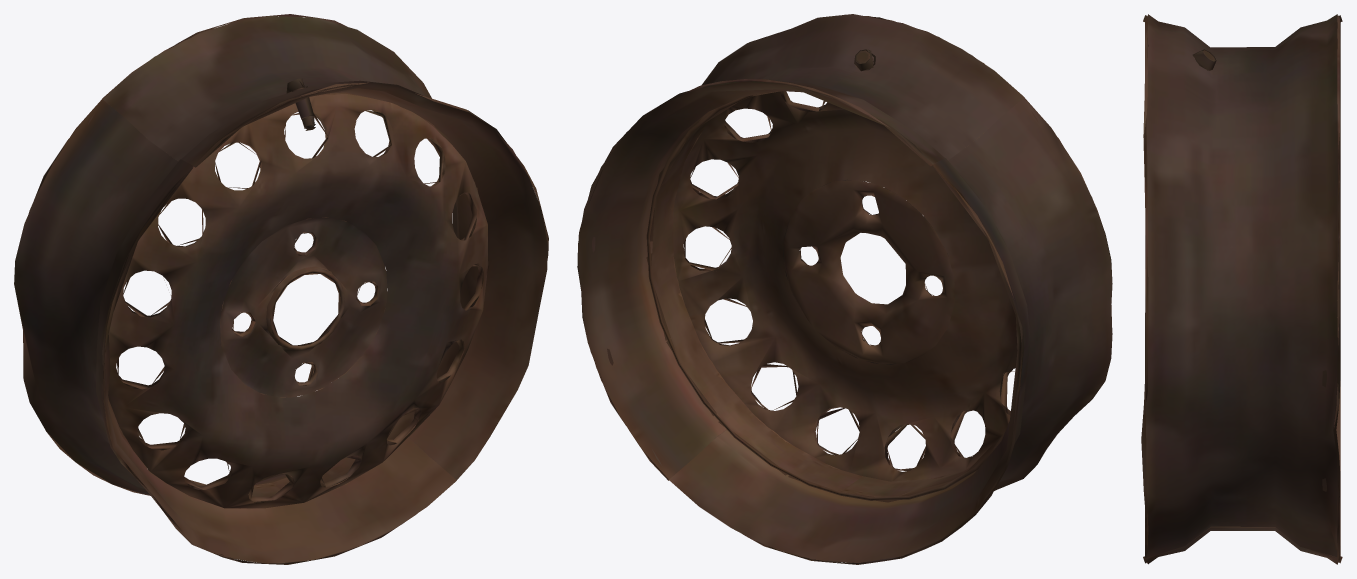
The model's file is rusted_wheel_rim_02.glb.
3 views of the same model, side by side, from view 1: azimuth 30°, elevation 25°; view 2: azimuth 150°, elevation 25°; view 3: azimuth 270°, elevation 25° (orthographic). The views are drawn at different scales.
Visible parts, largest first — view 1: rusted_wheel_rim_02; view 2: rusted_wheel_rim_02; view 3: rusted_wheel_rim_02.
Part boxes in pixels (x1,y1,x2,y2): rusted_wheel_rim_02: [14, 14, 548, 564]; rusted_wheel_rim_02: [577, 14, 1112, 564]; rusted_wheel_rim_02: [1141, 14, 1342, 564].
Size of the model in its own units: 0.3345 by 0.3384 by 0.1232.
Materials: 1 (1 with a texture image).
